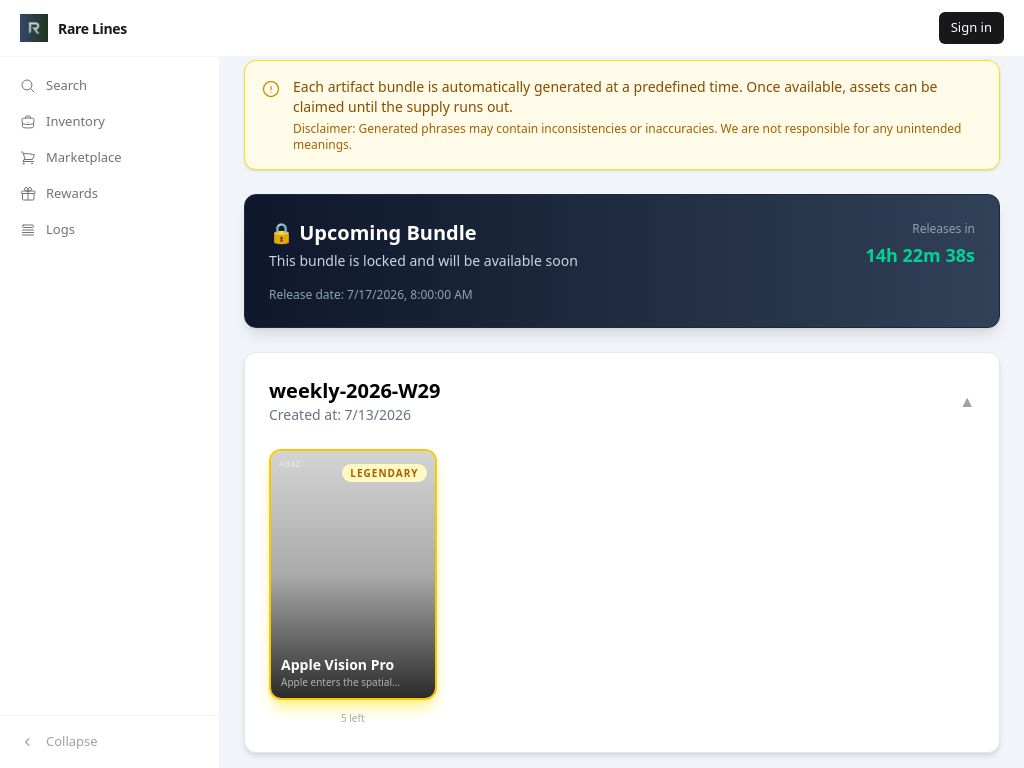
Test case: Reward › collapses and re-expands a bundle on header click
Check: the text "Apple Vision Pro" is shown, box x1=281 y1=655 x2=394 y2=674
Click the heading "weekly-2026-W29". click: (355, 391)
box: x1=269 y1=377 x2=440 y2=405
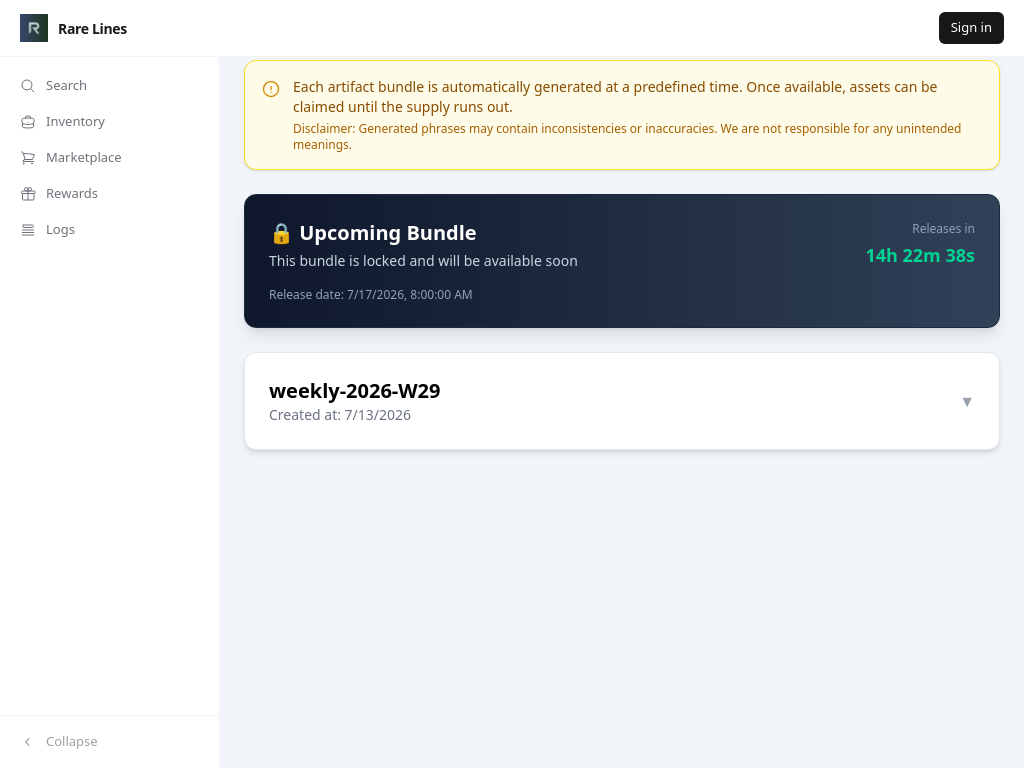
Check: the text "Apple Vision Pro" is gone
Click the heading "weekly-2026-W29". click: (355, 391)
box: x1=269 y1=377 x2=440 y2=405
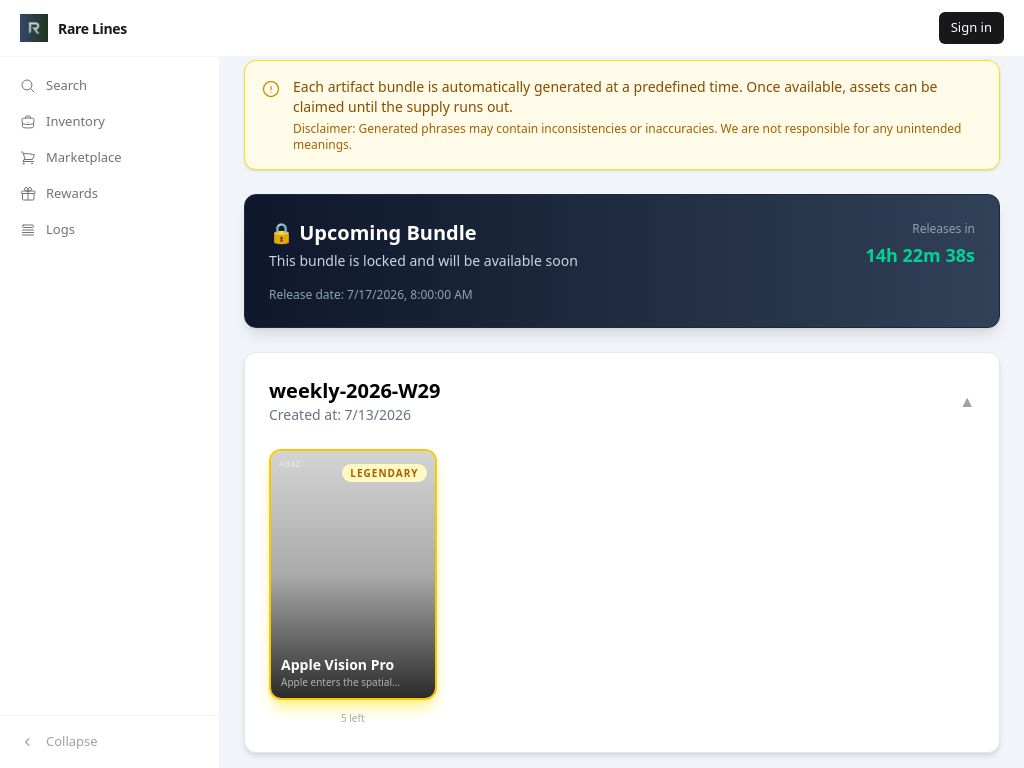
Check: the text "Apple Vision Pro" is shown, box x1=281 y1=655 x2=394 y2=674
